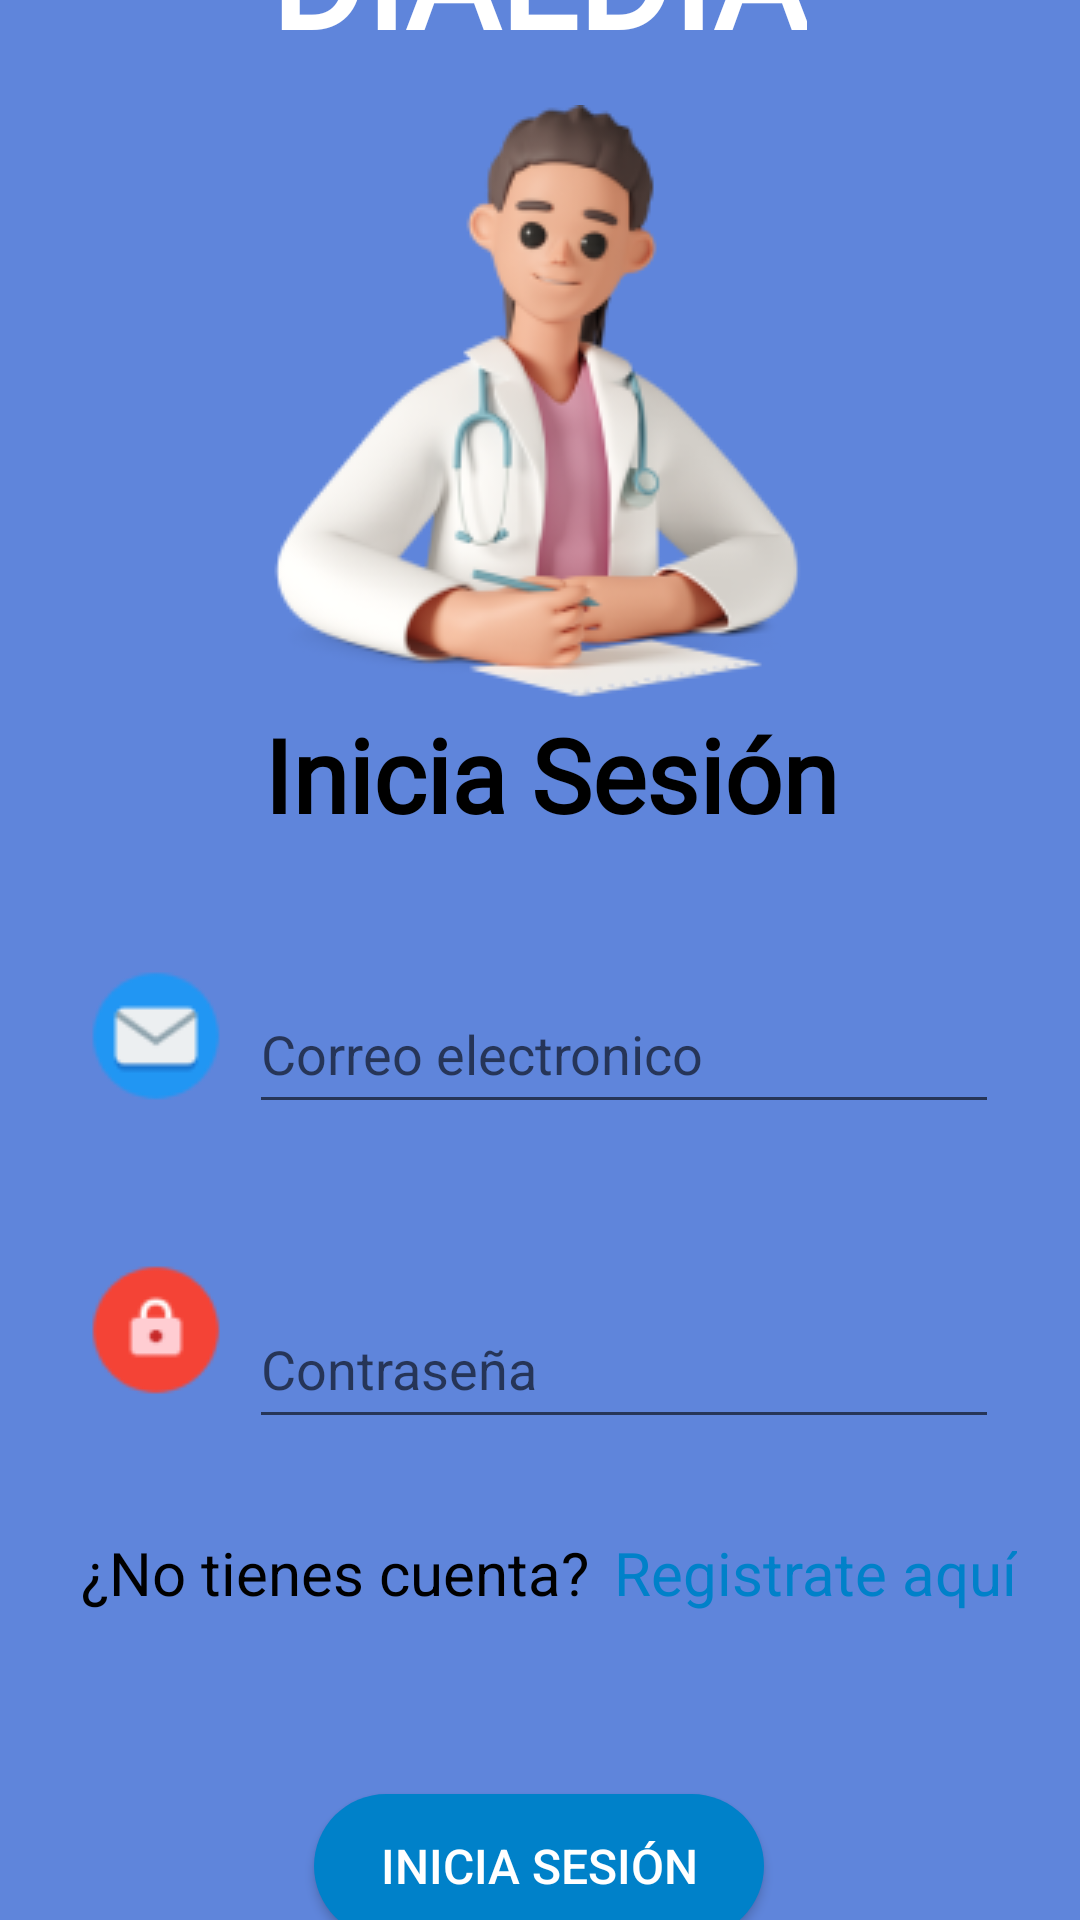

Icons on this 1080px×1920px Android screen, each with the point to tap as point (x, y):
iconemail: point (156, 1036)
iconpassword: point (156, 1330)
